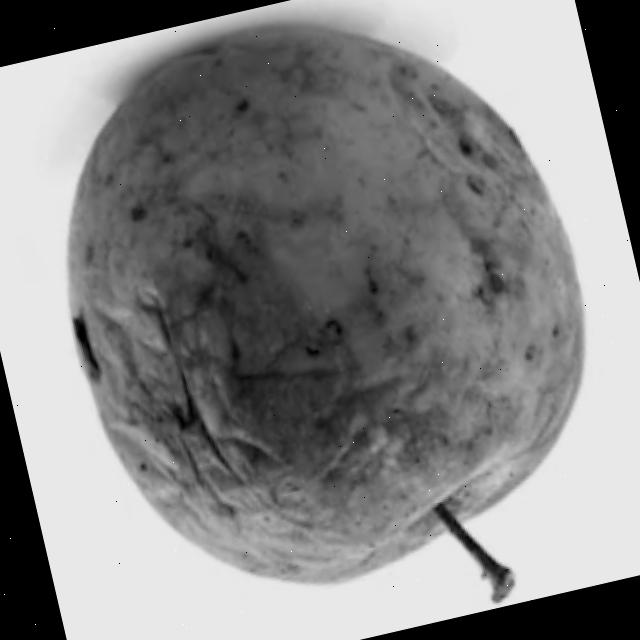Rotten: (10, 0, 640, 639)
